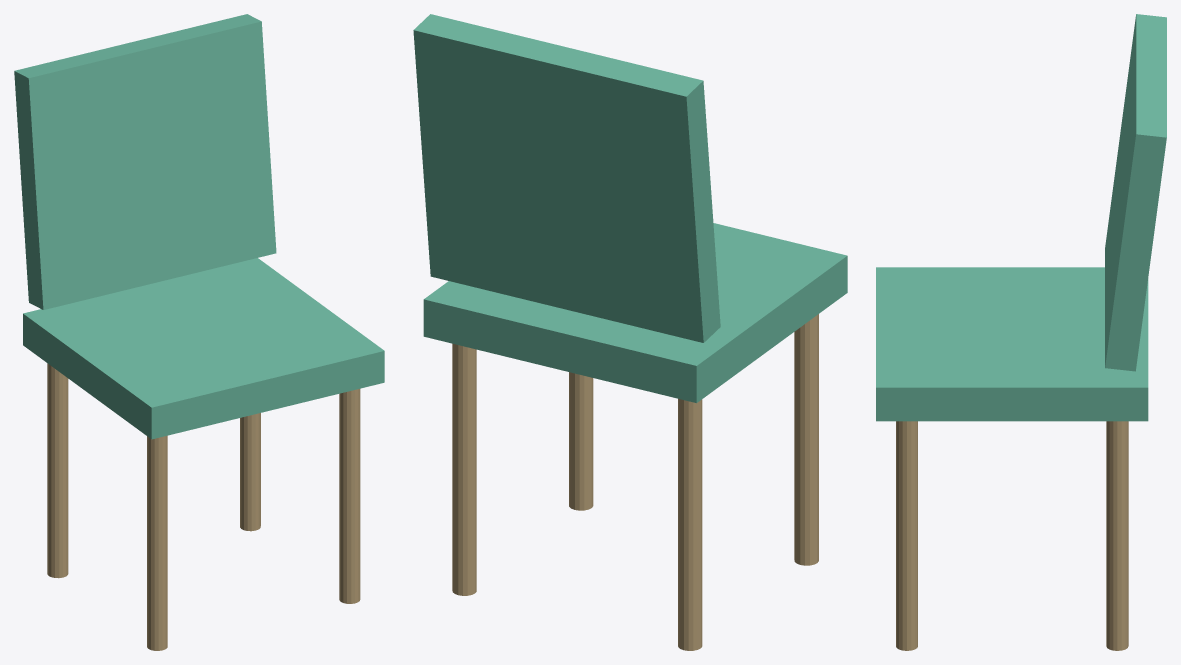
Rendered from chair.glb.
The picture shows the model from 3 angles, left to right: view 1: azimuth 30°, elevation 25°; view 2: azimuth 150°, elevation 25°; view 3: azimuth 270°, elevation 25°; orthographic projection. The views are drawn at different scales.
Visible parts, largest first — view 1: geometry_0; view 2: geometry_0; view 3: geometry_0.
Part boxes in pixels (x1,y1,x2,y2): geometry_0: (14,14,384,650); geometry_0: (413,14,847,650); geometry_0: (876,14,1166,650).
Bounding box in the file's own units: 0.46 × 0.9315 × 0.47.
